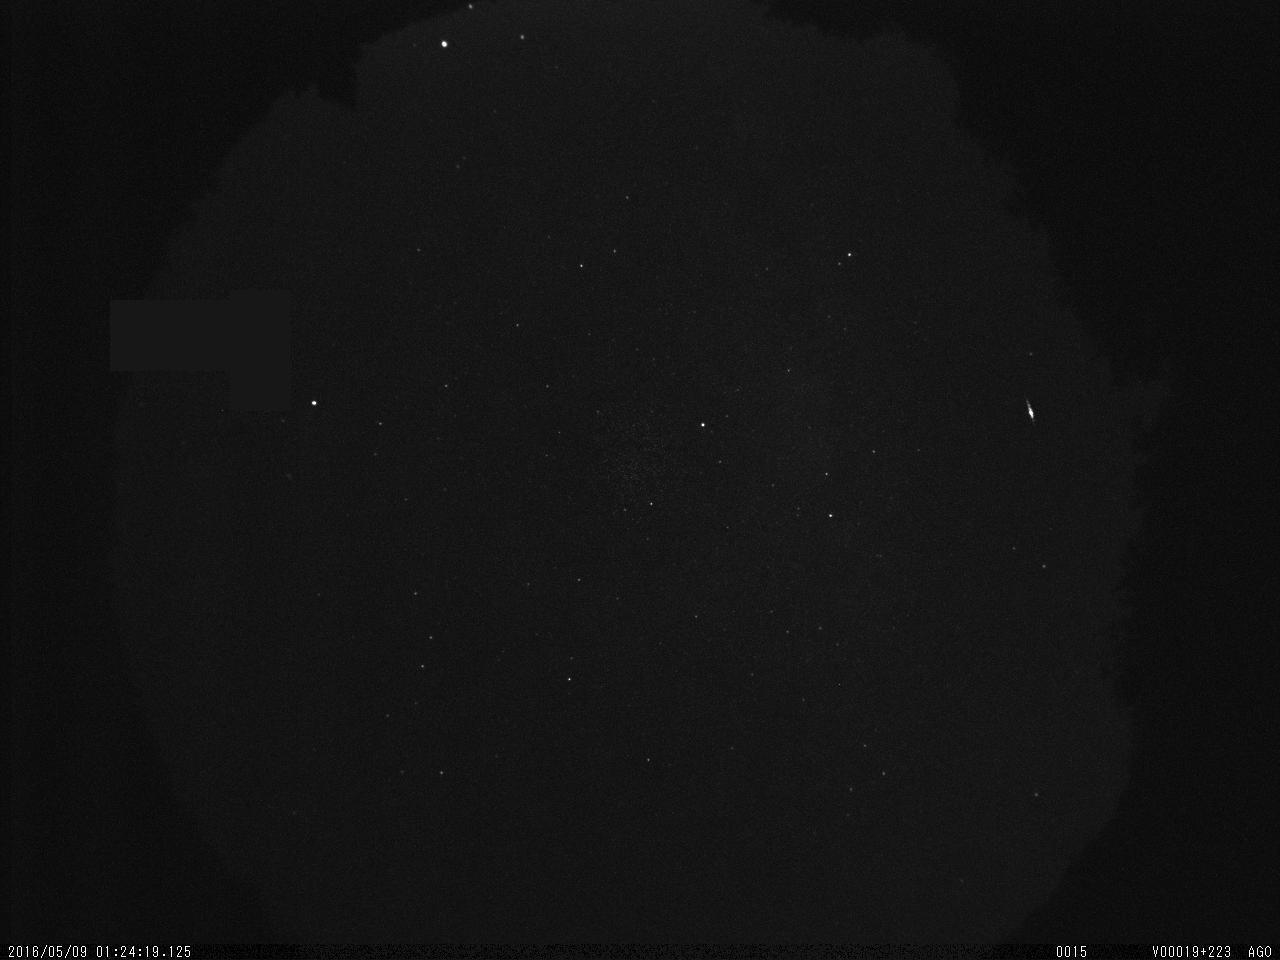meteor: (1008, 383, 1056, 443)
